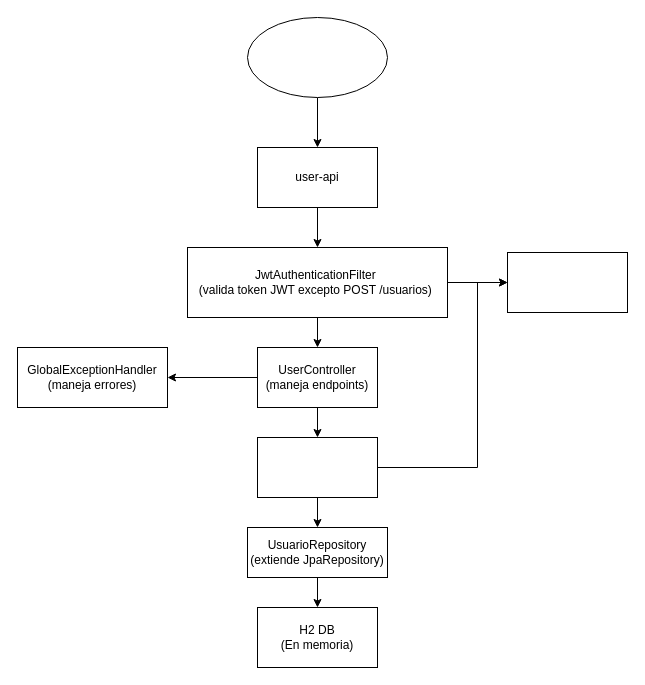
The diagram is 645 pixels wide and 685 high, and some of its shapes have lost their labels. The box of each missing label's shape, as (x1, y1, x2, y2) in pixels:
Cliente (API) Postman / cURL / APP: (246, 16, 388, 98)
JwtUtil (Genera/valida token): (506, 252, 628, 312)
UserService (lógica de negocio, validaciones, fechas): (256, 436, 378, 498)
